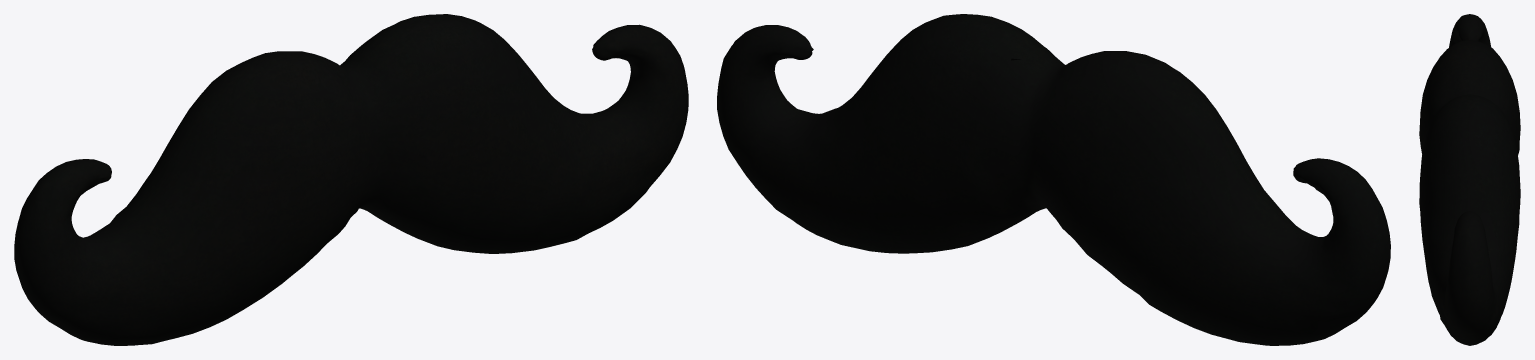
The model's file is face_moustache.glb.
The picture shows the model from 3 angles, left to right: view 1: azimuth 30°, elevation 25°; view 2: azimuth 150°, elevation 25°; view 3: azimuth 270°, elevation 25°; orthographic projection. The views are drawn at different scales.
Parts seen in each view (by area): view 1: geometry_0; view 2: geometry_0; view 3: geometry_0.
Boxes of the visible parts, x1,y1,x2,y2 form: geometry_0: [14, 14, 688, 345]; geometry_0: [717, 14, 1390, 345]; geometry_0: [1419, 14, 1520, 345].
Bounding box in the file's own units: 0.9502 × 0.3447 × 0.1694.
Materials: 1 (1 with a texture image).
